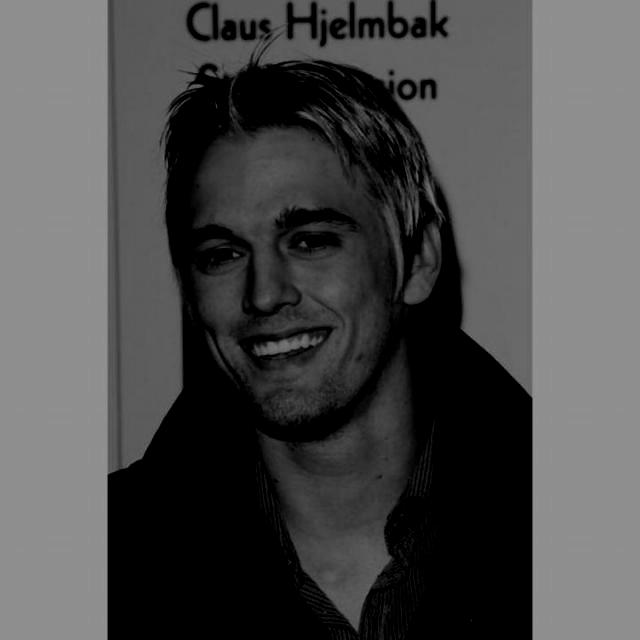real: (184, 162, 397, 440)
